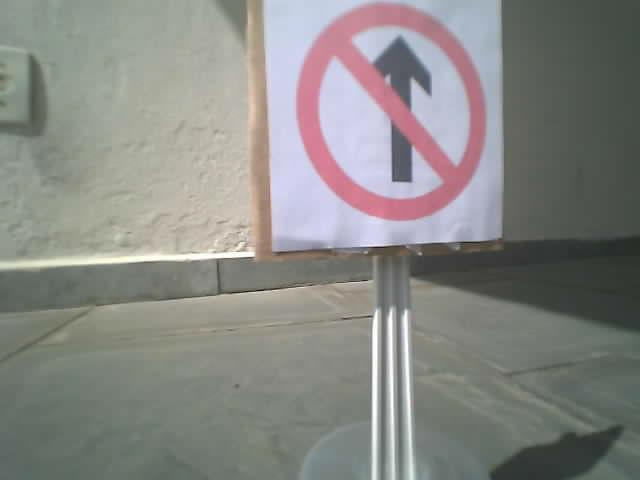R-3_sentido-proibido: (292, 1, 487, 222)
